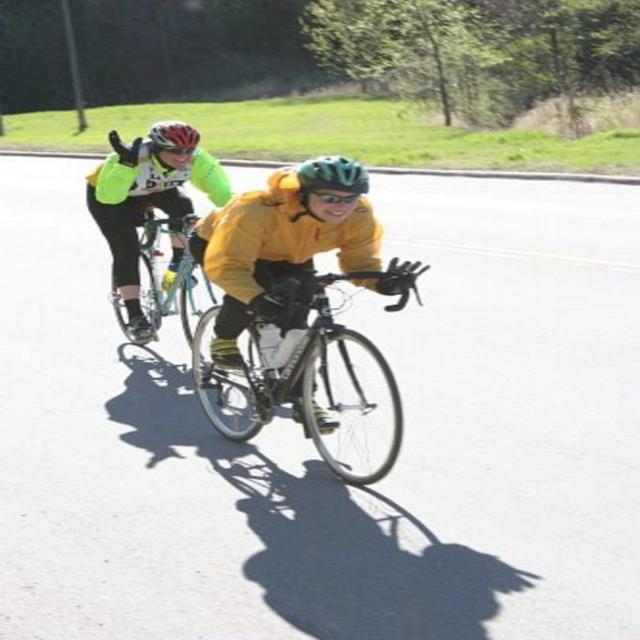car: (146, 240, 442, 496), (107, 202, 228, 367)
